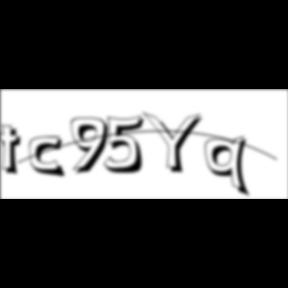5: (104, 114, 150, 176)
9: (70, 117, 116, 177)
Y: (143, 110, 210, 176)
c: (30, 136, 70, 180)
q: (204, 135, 253, 200)
t: (0, 124, 28, 179)
